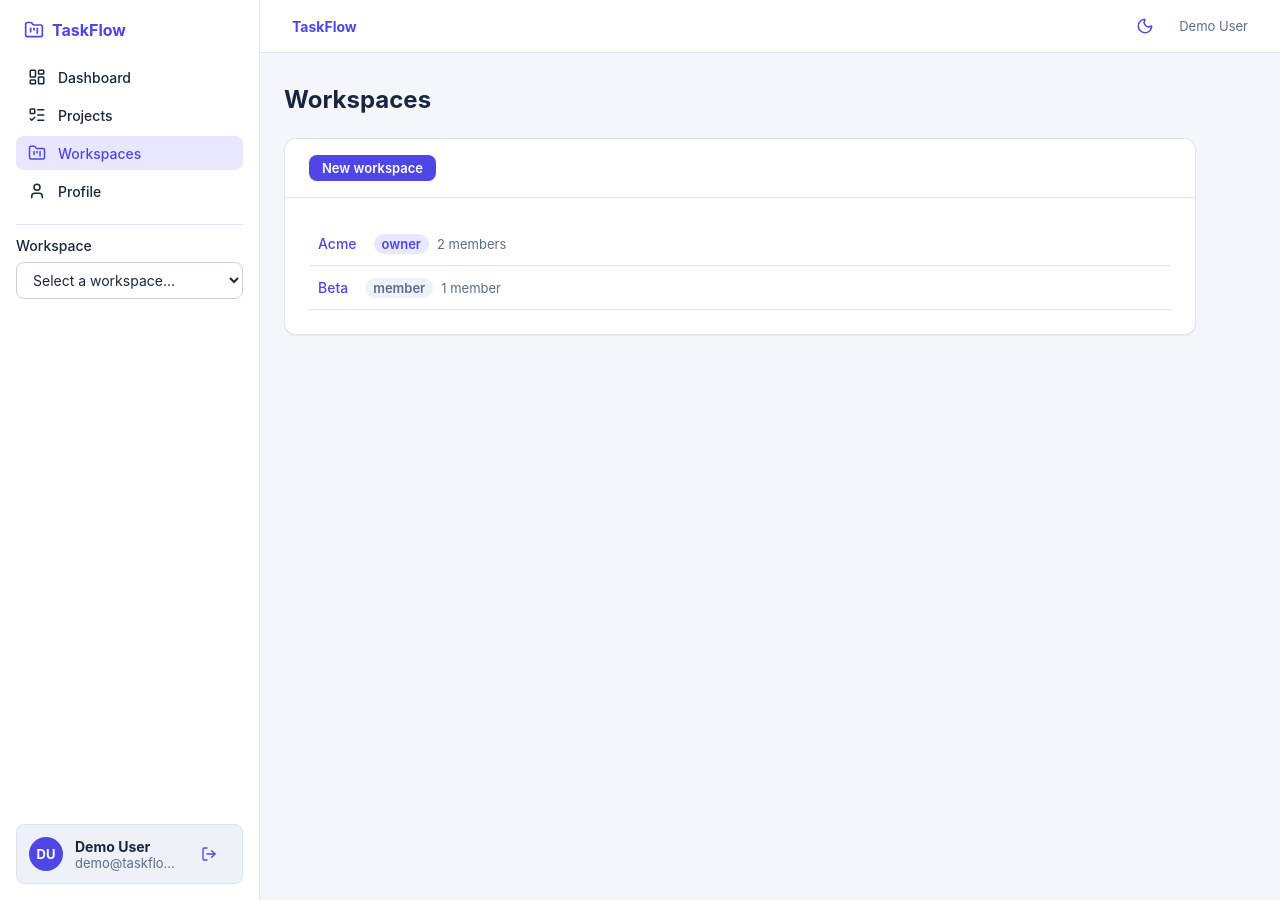
Test: workspace-pane — "Members load failure alerts with retry inside the drawer" (@w1) › shows an alert with retry when members fail to load
Click the button "Acme" at (337, 244), box x1=309 y1=230 x2=366 y2=257
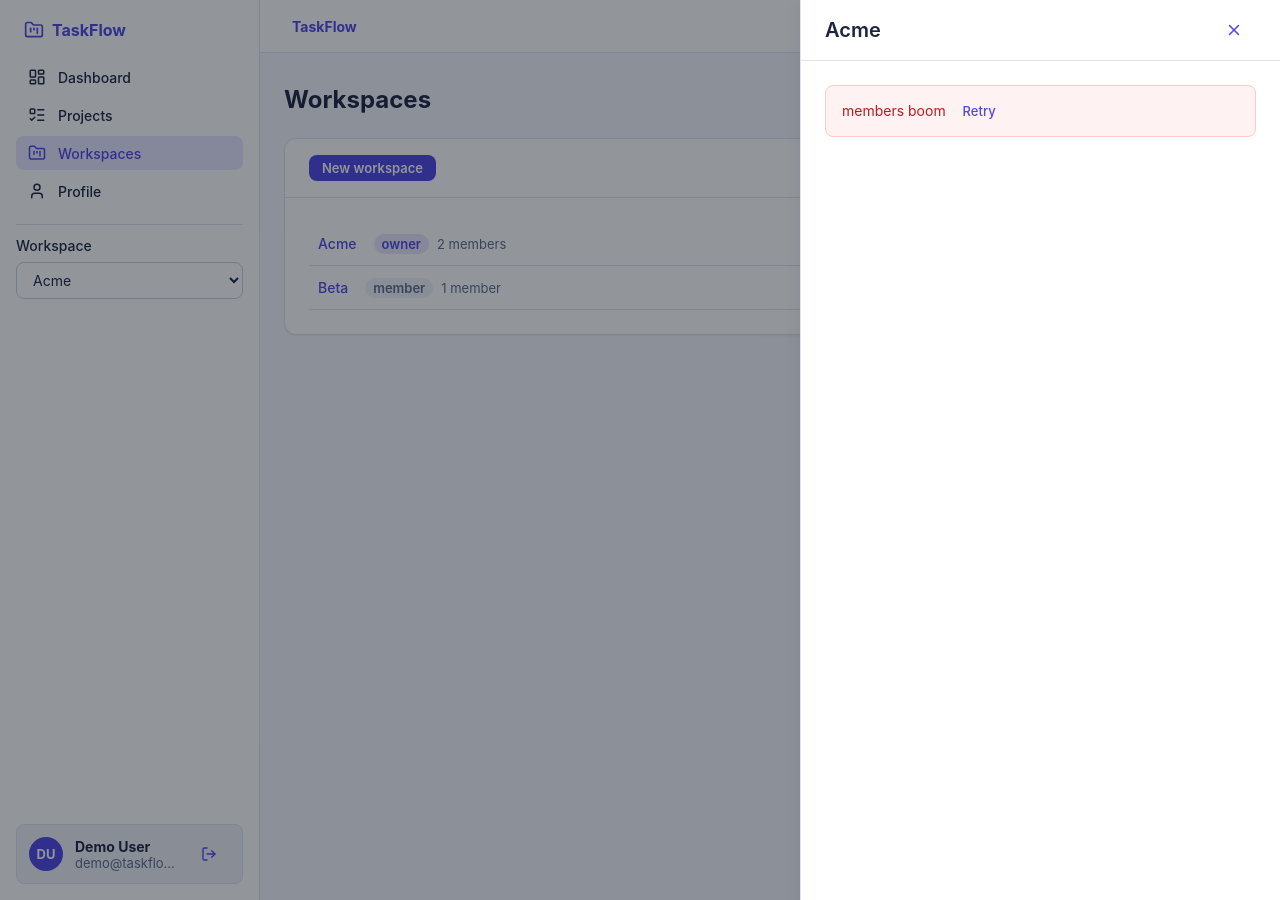
Now the message shows "members boom", box x1=842 y1=102 x2=946 y2=119
Now the button "Retry" is shown, box x1=950 y1=98 x2=1009 y2=124
